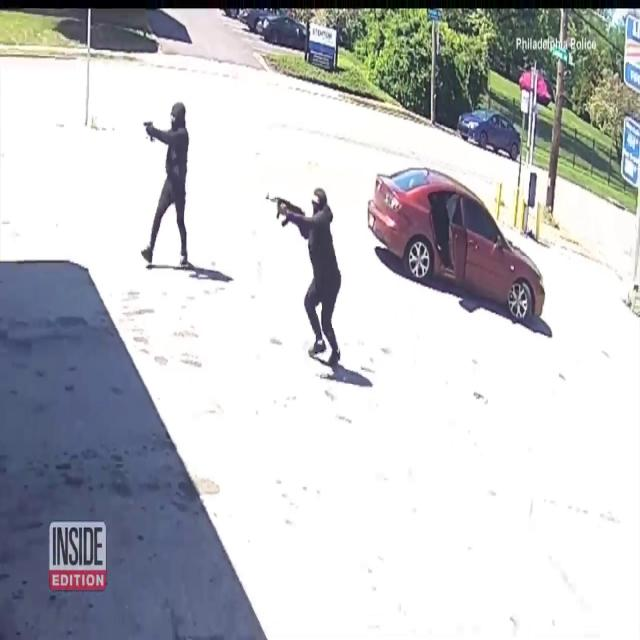penembakan: (265, 182, 347, 372), (138, 103, 198, 275)
